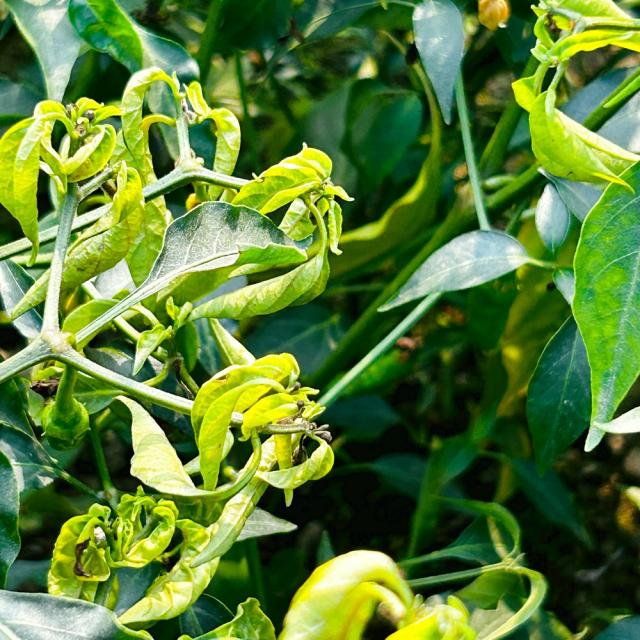Chilli_Leaf_Curl: (1, 0, 638, 638), (1, 65, 351, 635), (61, 198, 312, 352), (510, 0, 638, 193), (189, 350, 335, 506), (570, 160, 638, 452), (376, 227, 530, 313), (410, 0, 465, 125)
